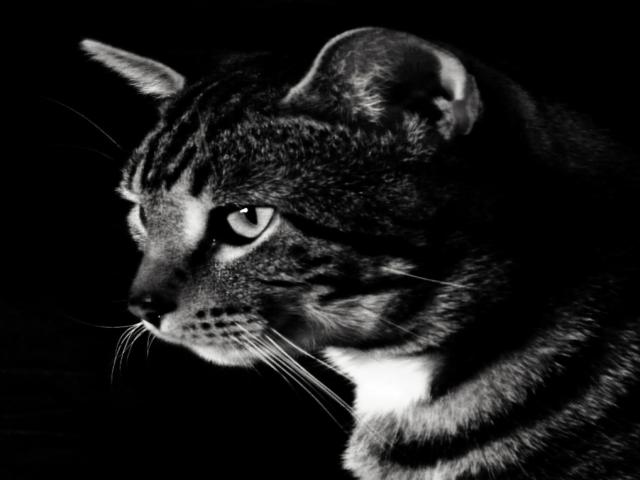Cat: (57, 25, 639, 480)
